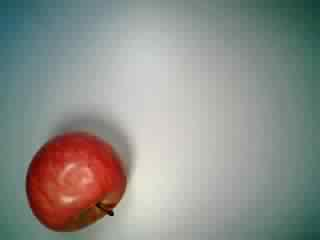apple: (25, 129, 128, 233)
